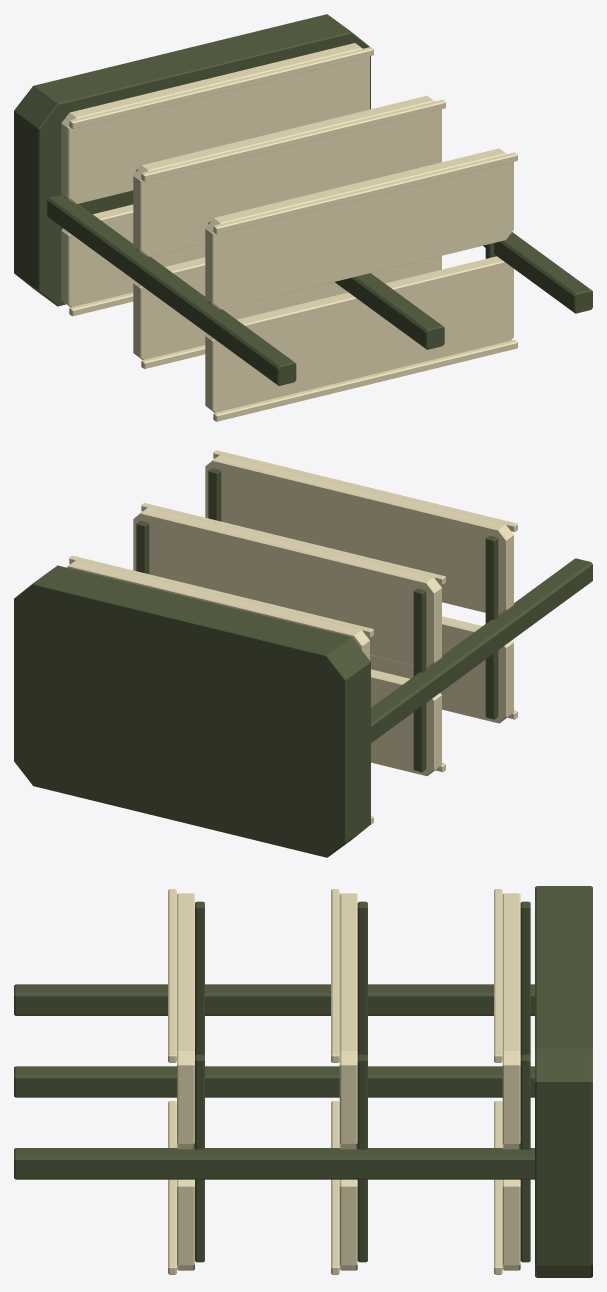
File: fixture_02_double_sided_aisle.glb
The picture shows the model from 3 angles, top to bottom: view 1: azimuth 30°, elevation 25°; view 2: azimuth 150°, elevation 25°; view 3: azimuth 270°, elevation 25°; orthographic projection. The views are drawn at different scales.
Visible parts, largest first — view 1: fixture_02_double_sided_aisle; view 2: fixture_02_double_sided_aisle; view 3: fixture_02_double_sided_aisle.
Part boxes in pixels (box(x1,y1,x2,y2)): fixture_02_double_sided_aisle: box(14, 14, 592, 421); fixture_02_double_sided_aisle: box(14, 450, 592, 857); fixture_02_double_sided_aisle: box(14, 886, 592, 1277).
Size of what is drawn, in the model's own units: 1.2 by 0.7 by 1.6.
